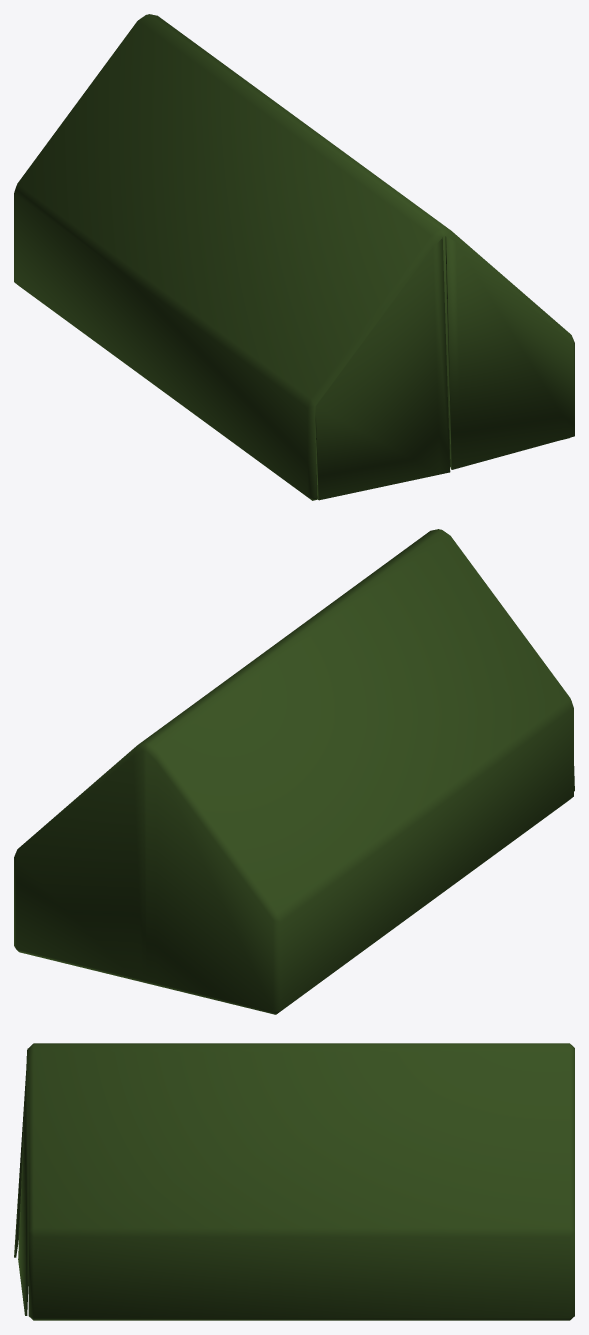
The model's file is Tent.glb.
3 views of the same model, one above another, from view 1: azimuth 30°, elevation 25°; view 2: azimuth 150°, elevation 25°; view 3: azimuth 270°, elevation 25° (orthographic). The views are drawn at different scales.
Parts seen in each view (by area): view 1: Tent; view 2: Tent; view 3: Tent.
Boxes of the visible parts, x1,y1,x2,y2 form: Tent: (14, 14, 574, 500); Tent: (14, 529, 574, 1014); Tent: (14, 1043, 574, 1320).
Size of the model in its own units: 1.23 by 1.05 by 2.44.
